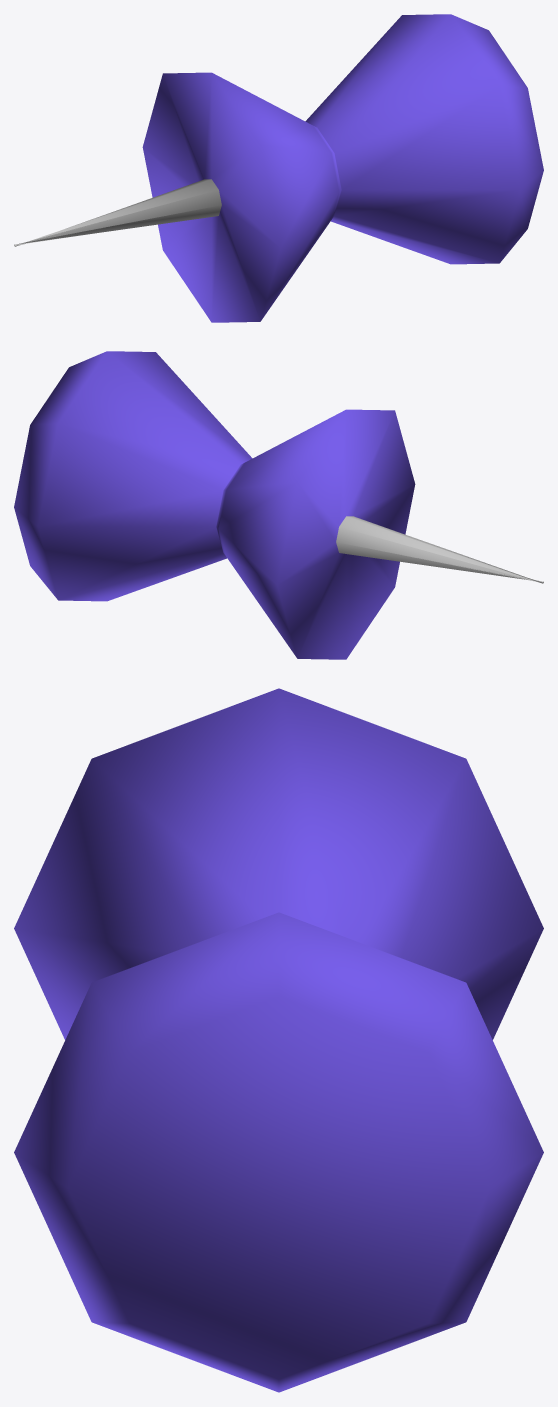
File: Pin_Clean.fbx
The picture shows the model from 3 angles, top to bottom: view 1: azimuth 30°, elevation 25°; view 2: azimuth 150°, elevation 25°; view 3: azimuth 270°, elevation 25°; orthographic projection. The views are drawn at different scales.
Visible parts, largest first — view 1: Pin_Clean; view 2: Pin_Clean; view 3: Pin_Clean.
Part boxes in pixels (x1,y1,x2,y2): Pin_Clean: (14,14,543,322); Pin_Clean: (14,351,543,659); Pin_Clean: (14,688,543,1392).
Bounding box in the file's own units: 24.19 × 12.2 × 12.2.
